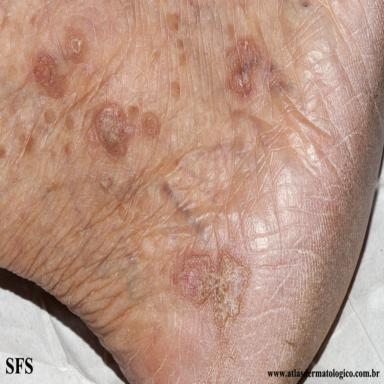Porokeratosis: (175, 251, 247, 327), (94, 103, 139, 158), (227, 37, 259, 97), (34, 52, 66, 98), (65, 29, 87, 63), (141, 111, 161, 138)
